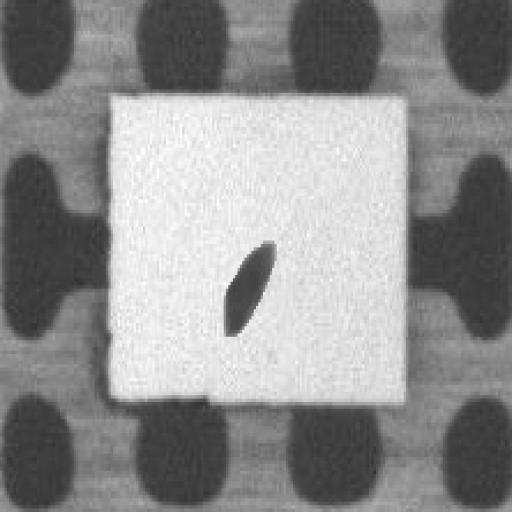DIE_INK: (312, 150, 430, 237)
